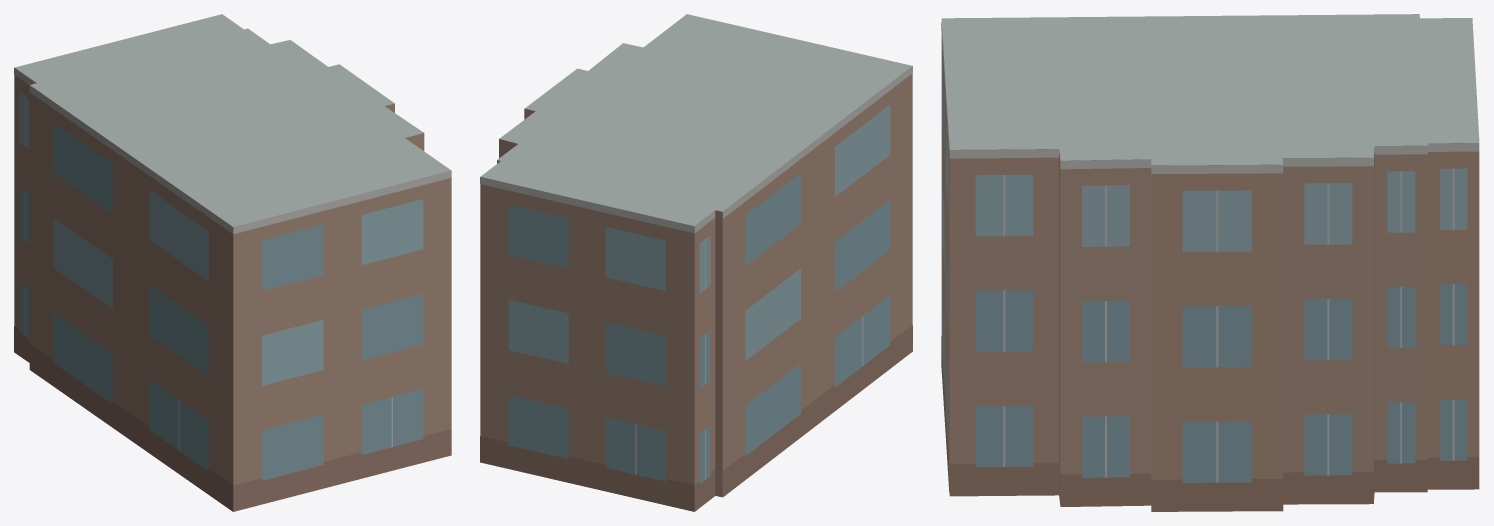
Rendered from survey-upis-32741050.glb.
3 views of the same model, side by side, from view 1: azimuth 30°, elevation 25°; view 2: azimuth 150°, elevation 25°; view 3: azimuth 270°, elevation 25° (orthographic). The views are drawn at different scales.
Visible parts, largest first — view 1: survey-upis-32741050.tmp; view 2: survey-upis-32741050.tmp; view 3: survey-upis-32741050.tmp.
Part boxes in pixels (x1,y1,x2,y2): survey-upis-32741050.tmp: (14,14,451,511); survey-upis-32741050.tmp: (480,14,912,511); survey-upis-32741050.tmp: (941,14,1479,511).
Size of the model in its own units: 9.1 by 9.7 by 13.67.
